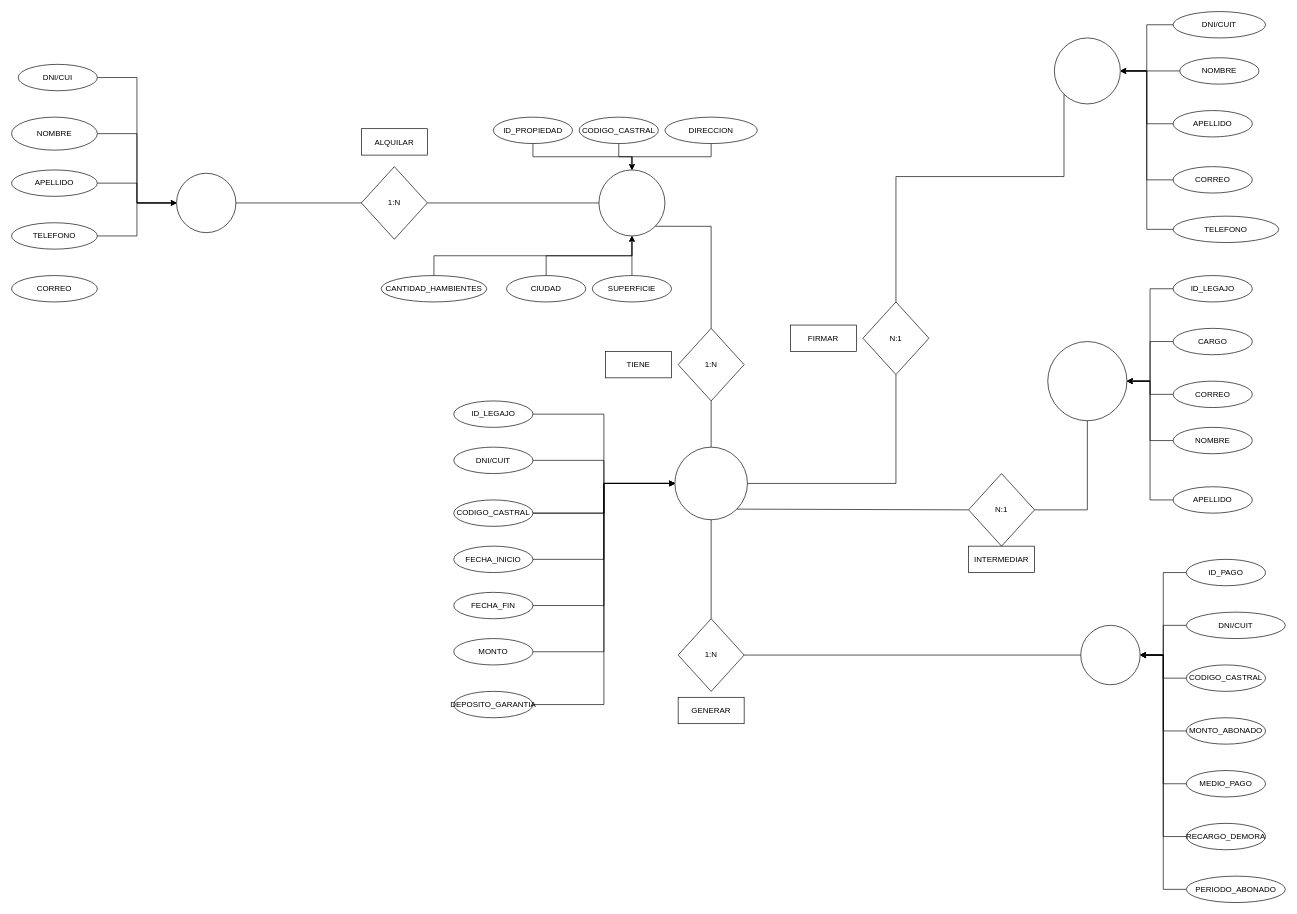
The diagram is 1297 pixels wide and 914 high, and some of its shapes have lost their labels. Each missing label, with the centre of its shape:
"CONTRATO" belongs at [710,483].
"EMPLEADO" belongs at [1087,381].
"INQUILINO" belongs at [1087,70].
"PAGO" belongs at [1110,655].
"PROPIEDAD" belongs at [631,202].
"PROPIETARIO" belongs at [206,203].
